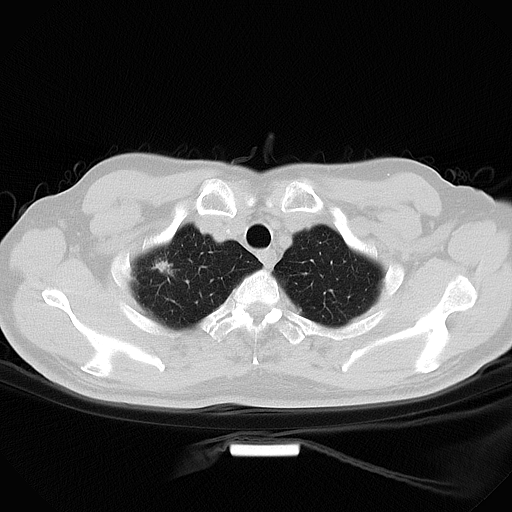nodule: (151, 258, 174, 276)
